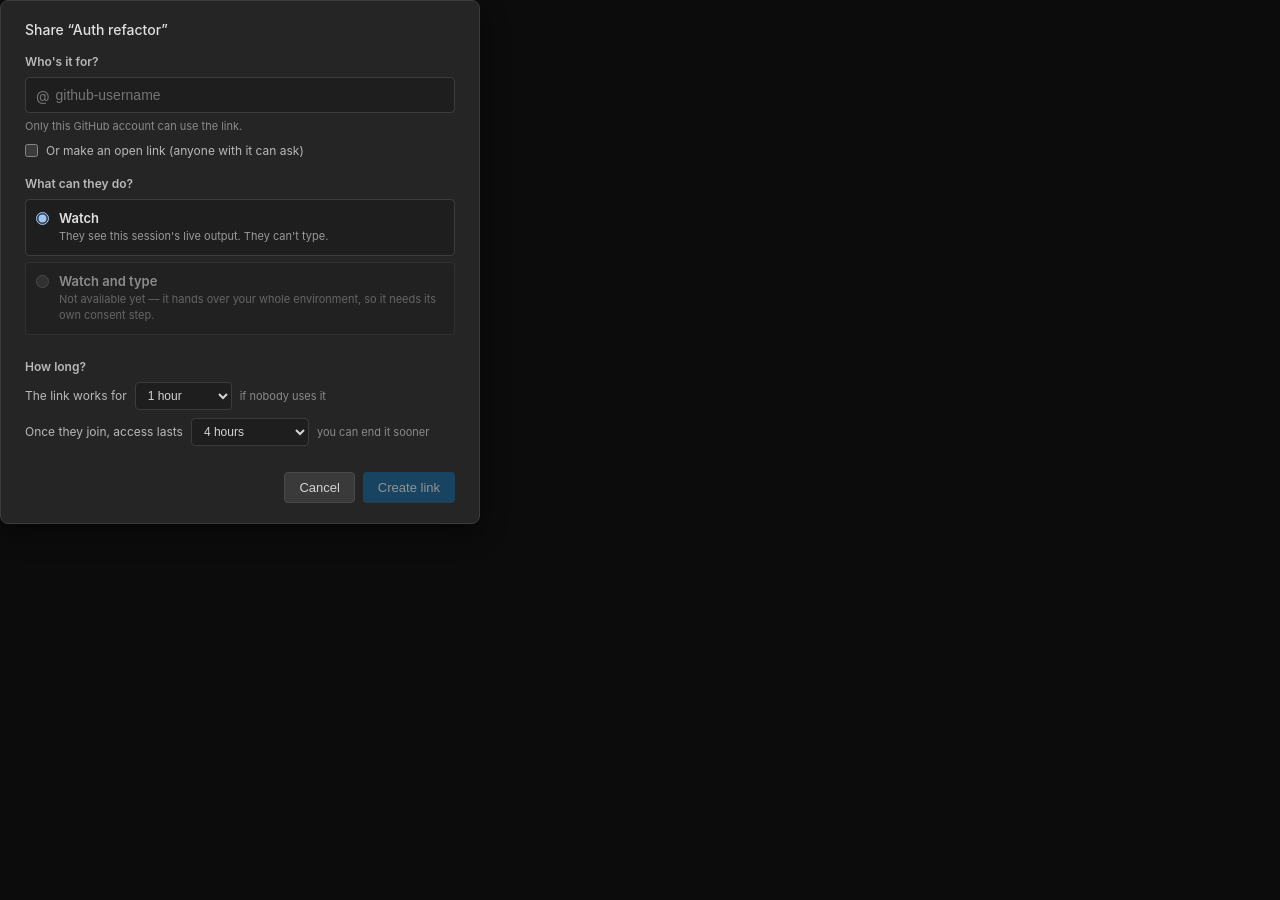
it: the created state › shows the link and says it is the credential
Type "dana-k" into the field with placeholder "github-username".
click(254, 95); type("dana-k")  # box [54,78,454,112]
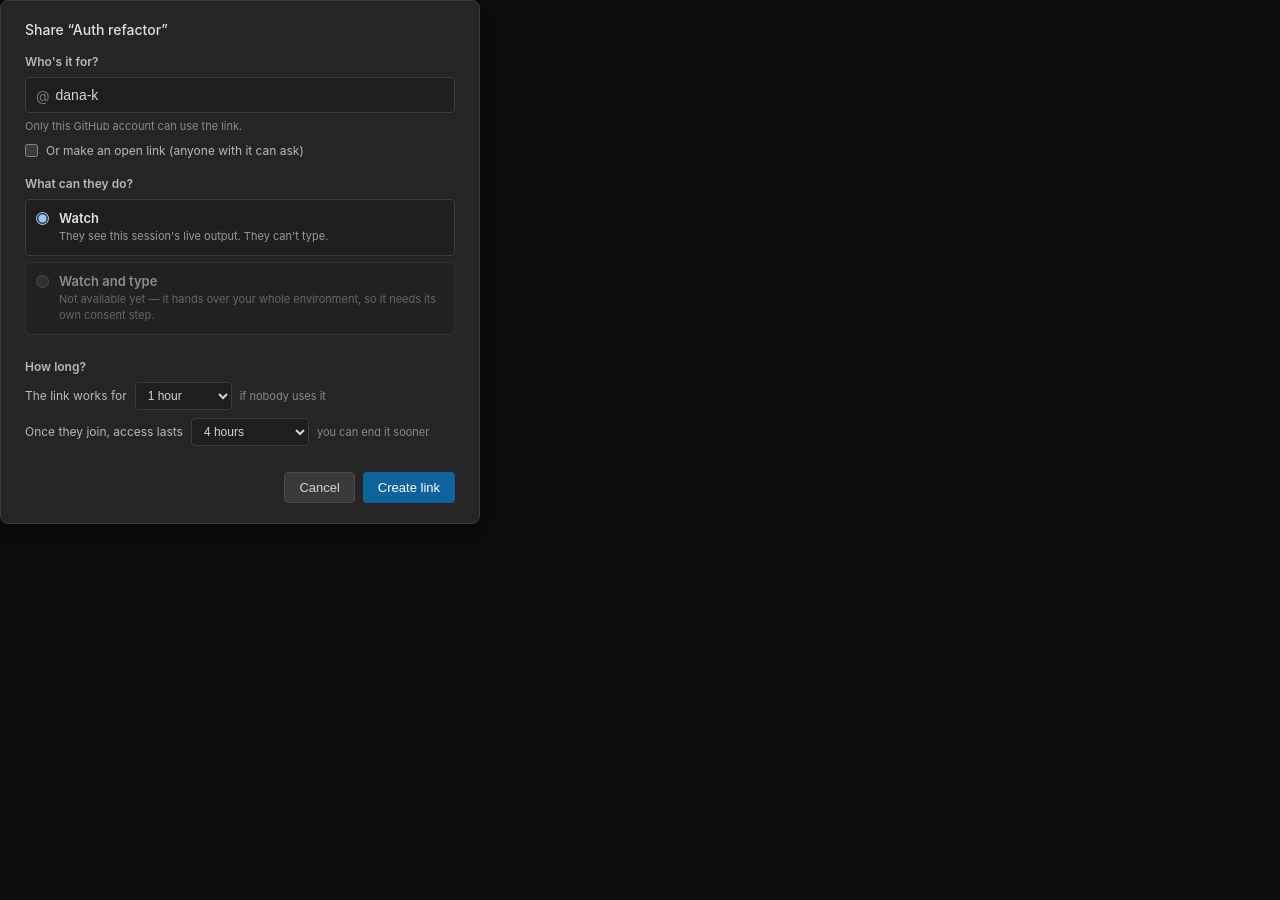
Click the button "Create link".
click(409, 487)  # box [363,472,455,503]
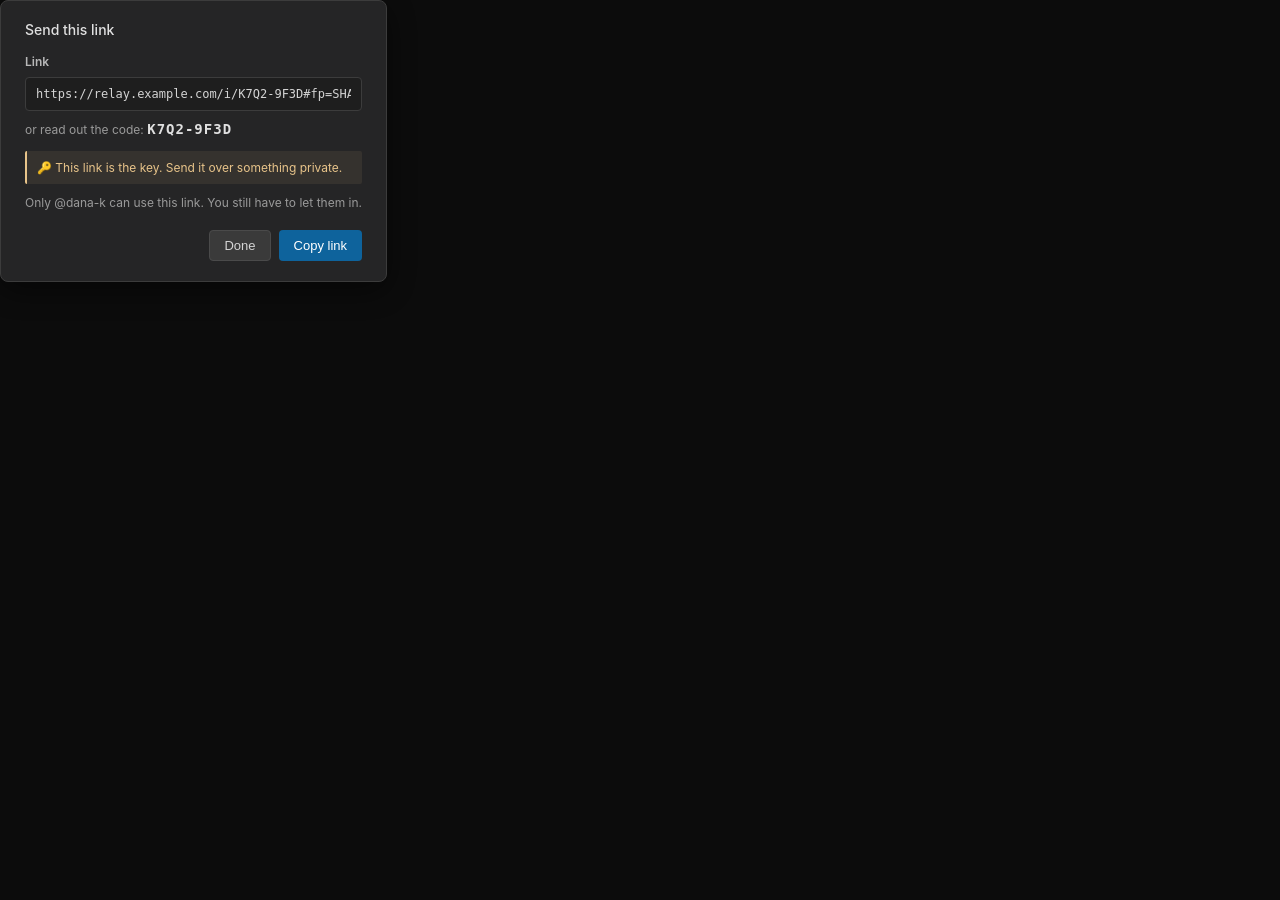
Now the heading "Send this link" is shown, box [25,21,114,38]
Now the text "🔑 This link is the key. Send it over something private." is shown, box [25,151,362,184]
